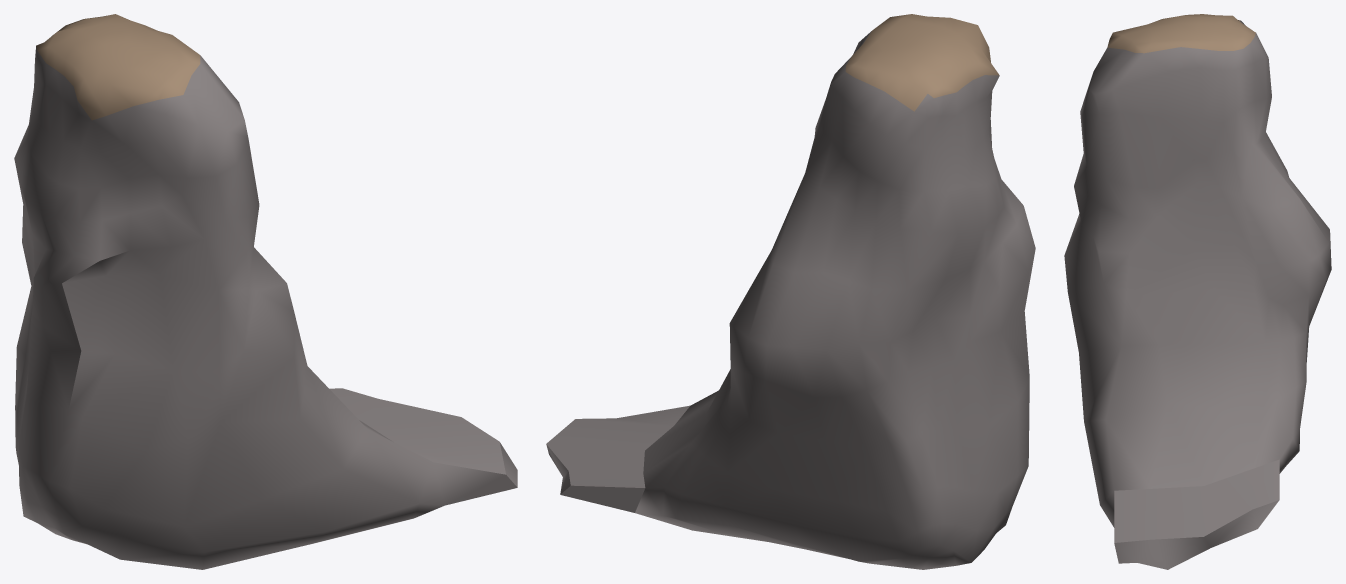
File: Berg_11.fbx
3 renders of one model, left to right at view 1: azimuth 30°, elevation 25°; view 2: azimuth 150°, elevation 25°; view 3: azimuth 270°, elevation 25°, orthographic. The views are drawn at different scales.
Visible parts, largest first — view 1: Berg_11; view 2: Berg_11; view 3: Berg_11.
Part boxes in pixels (<box>): Berg_11: <box>14,14,517,569</box>; Berg_11: <box>546,14,1035,569</box>; Berg_11: <box>1064,14,1331,569</box>.
Size of the model in its own units: 4481 by 4706 by 2801.
